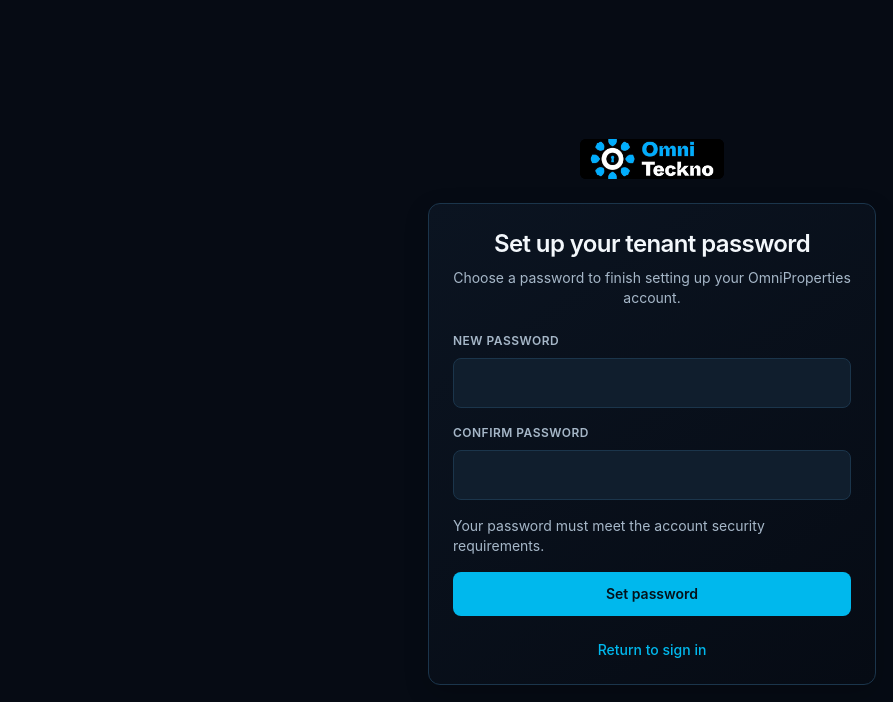
TenantPasswordSetupPage › validates the token and redirects to sign in after successful setup
This screenshot has width=893, height=702.
In the password field labelled "New password": {"x": 652, "y": 383} [453,358,851,408], type "StrongExamplePassword!"
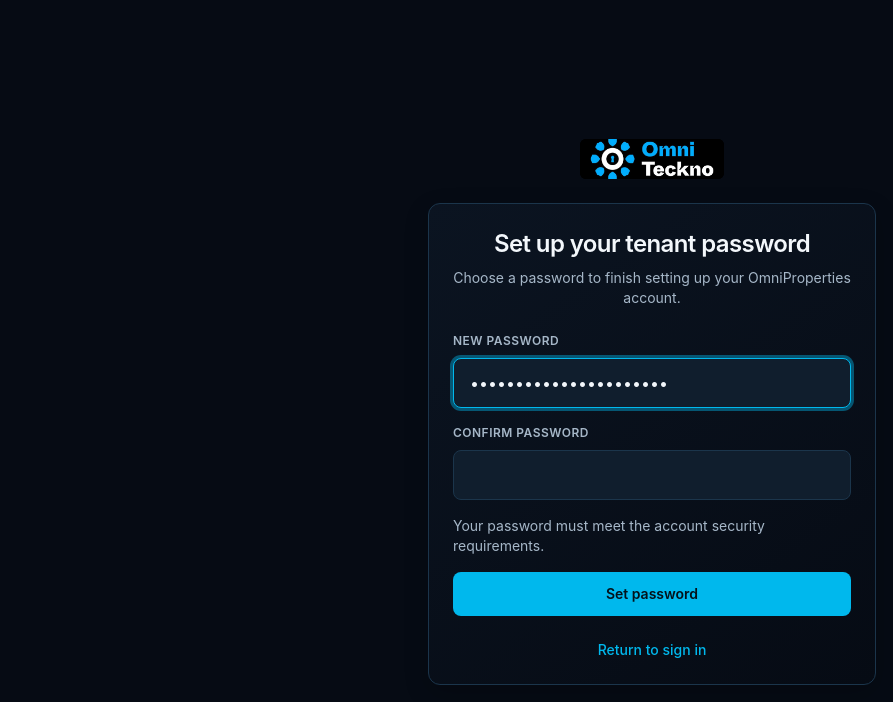
In the password field labelled "Confirm password": {"x": 652, "y": 475} [453,450,851,500], type "StrongExamplePassword!"
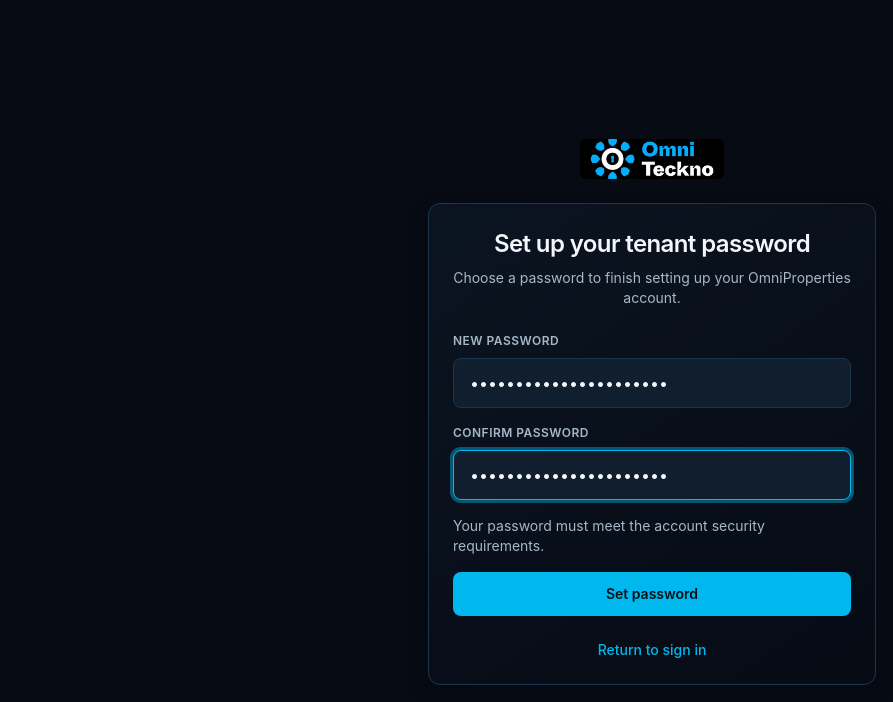
Click the button "Set password": {"x": 652, "y": 594} [453,572,851,616]
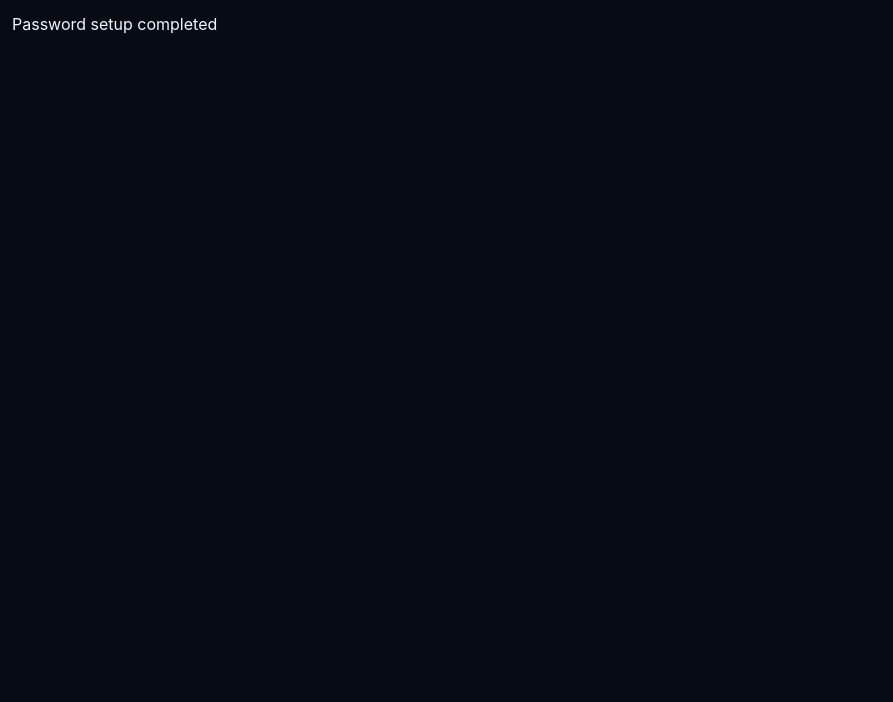
Now the text "Password setup completed" is shown, box [12,14,217,34]
